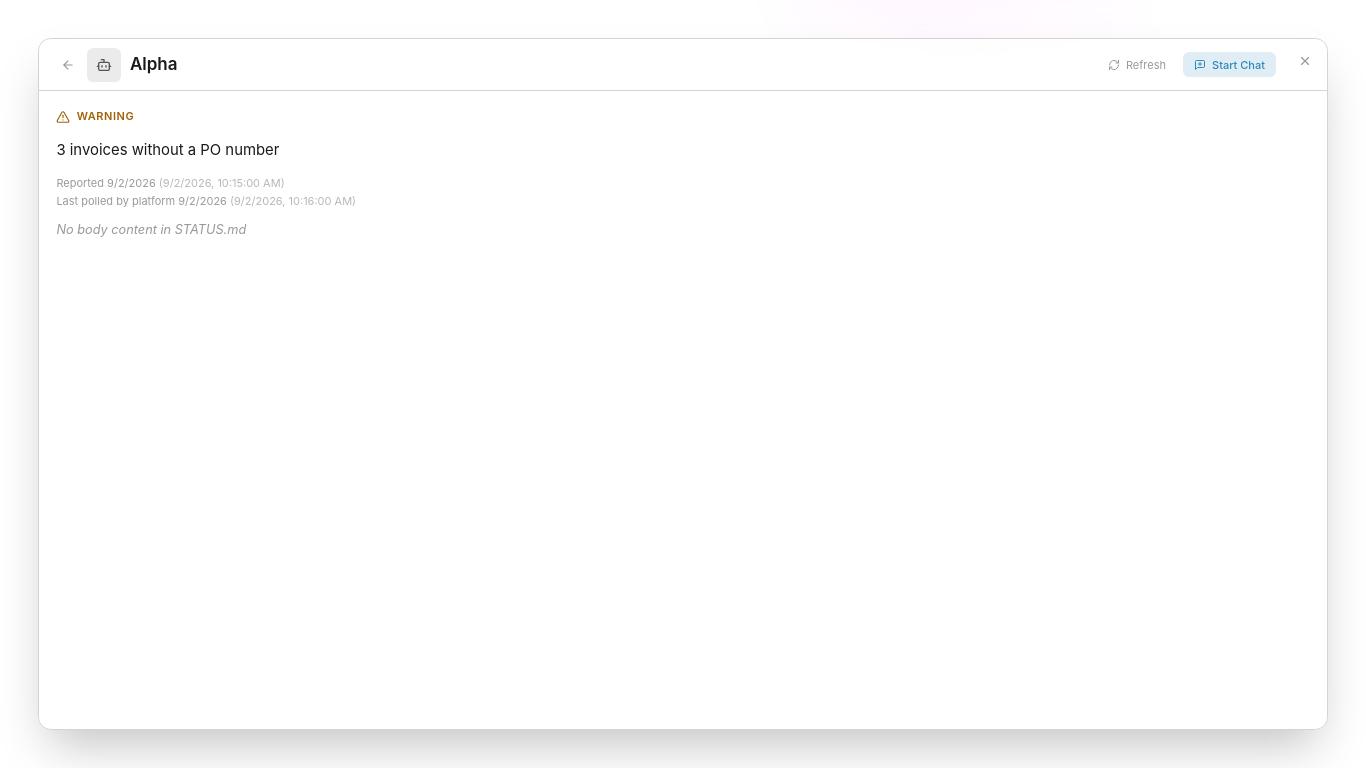
Scenario: AgentStatusOverlay — the per-card Refresh › says so on the detail view too, which the tray opens straight into
Expected: the button titled "Back to grid" is shown, [56,54,79,76]
Click the button titled "status refresh command" at (1137, 65), box [1099,52,1175,77]
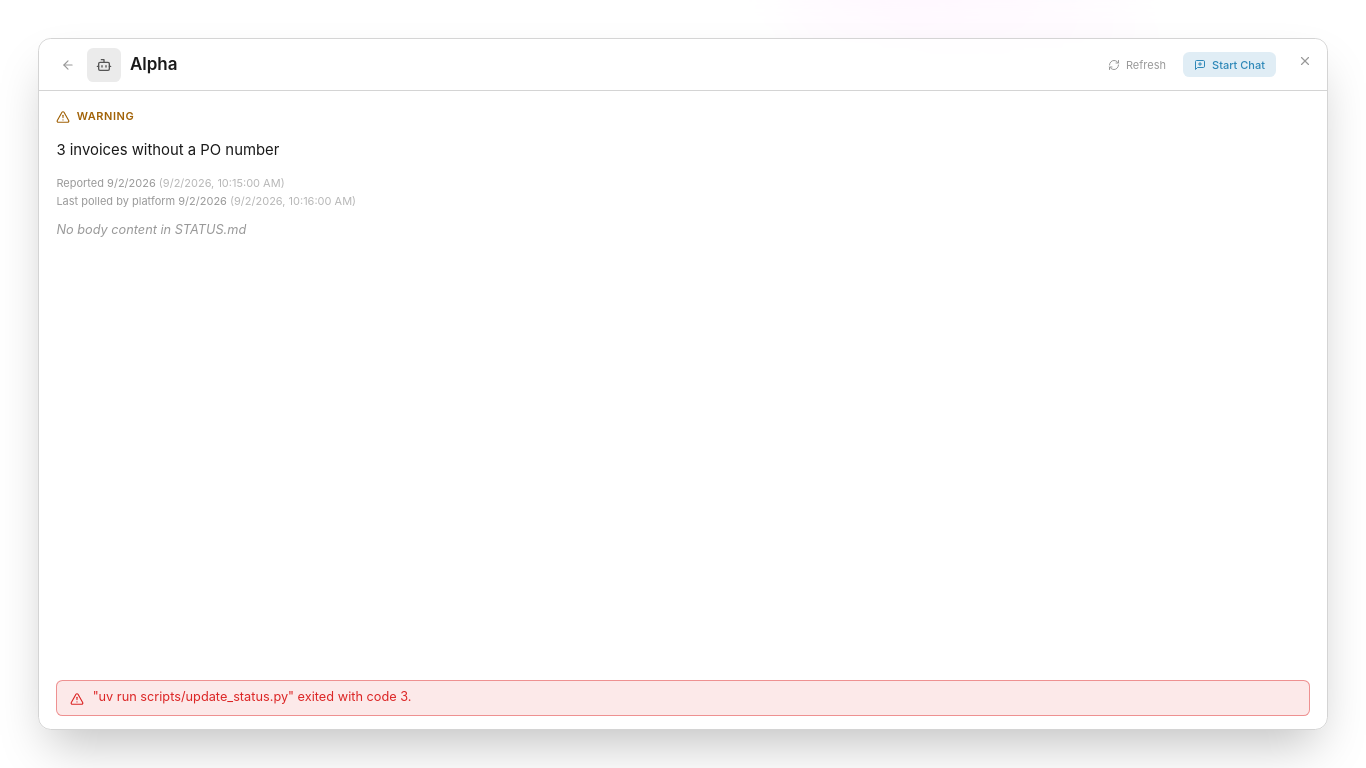
Expected: the text "\"uv run scripts/update_status.py\" exited with code 3." is shown, [93,689,412,706]
